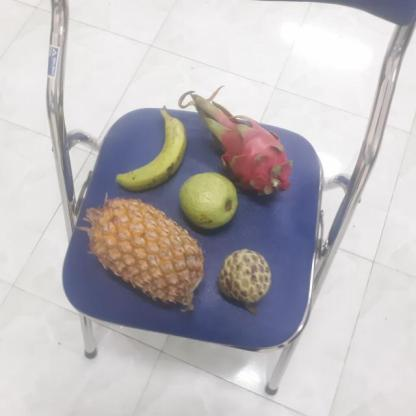annona: (213, 249, 270, 306)
banana: (112, 110, 186, 192)
guava: (176, 173, 239, 232)
pineapple: (85, 200, 204, 312)
pitaya: (200, 109, 289, 195)
